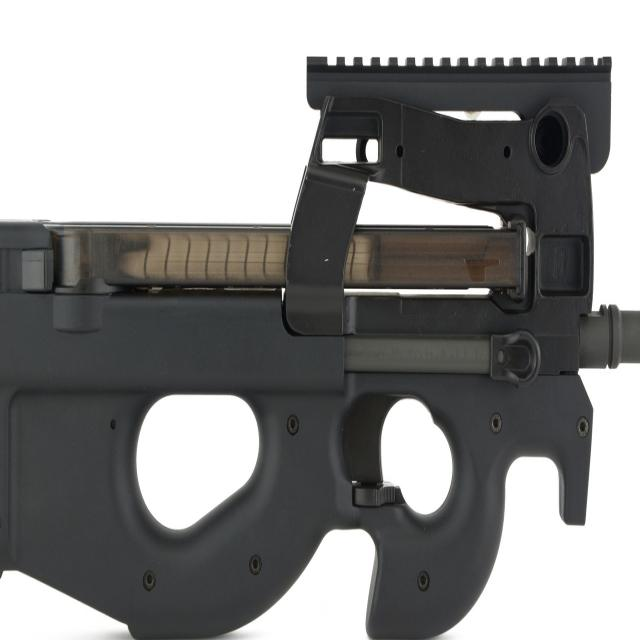SMG: (0, 56, 640, 640)
